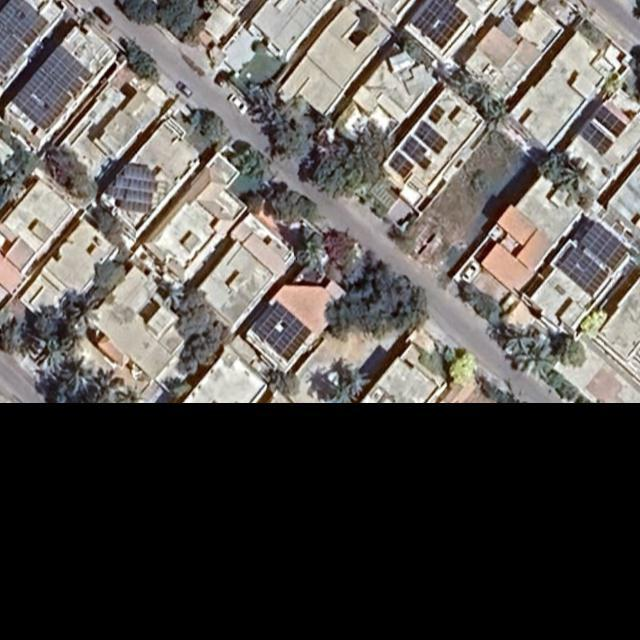solar panel: (9, 43, 96, 132), (251, 300, 315, 364), (0, 0, 47, 86), (554, 246, 612, 302), (108, 159, 163, 215), (412, 0, 472, 49), (579, 221, 630, 271), (412, 120, 451, 156), (591, 106, 631, 141), (580, 121, 614, 155), (386, 152, 415, 179), (400, 135, 428, 162)
